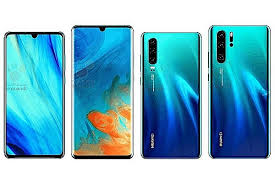huawei: (69, 22, 133, 159), (207, 23, 271, 160), (139, 29, 204, 161), (2, 28, 66, 161)
